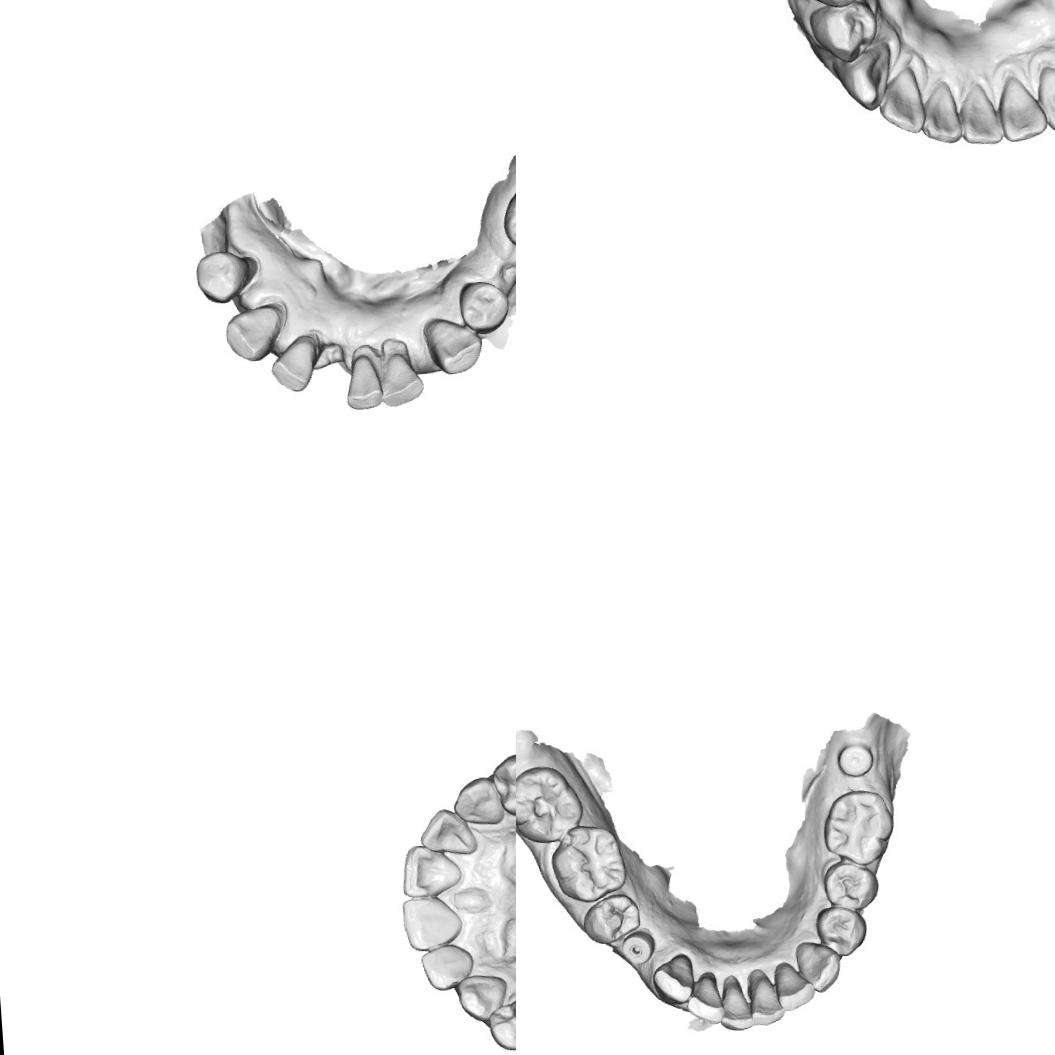canine: (420, 313, 485, 377), (838, 42, 896, 112), (222, 302, 284, 365), (452, 970, 510, 1024), (449, 773, 505, 828), (792, 936, 844, 994), (650, 950, 698, 1006), (1034, 62, 1055, 132)
implant: (833, 740, 876, 778), (619, 928, 655, 966)
incisor: (400, 893, 464, 953), (398, 841, 464, 899), (995, 72, 1048, 142), (416, 804, 478, 858), (958, 81, 1004, 148), (266, 336, 319, 394), (878, 69, 926, 132), (376, 350, 426, 408), (418, 942, 476, 992), (922, 79, 966, 144), (340, 351, 384, 412), (771, 958, 817, 1013), (683, 970, 724, 1028), (745, 973, 786, 1028), (717, 980, 752, 1032)
molar: (547, 820, 630, 906), (818, 785, 898, 868), (516, 761, 587, 847), (498, 174, 516, 264)
premolar: (810, 0, 880, 68), (577, 891, 643, 946), (192, 246, 250, 306), (818, 858, 881, 912), (454, 278, 510, 336), (812, 903, 870, 959), (488, 750, 516, 819), (484, 994, 516, 1052)
